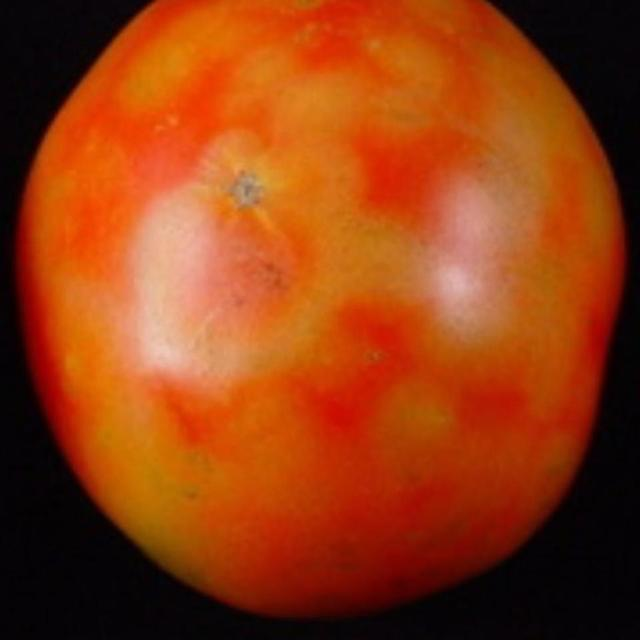Spotted wilt Virus Fruit: (67, 0, 140, 14)
